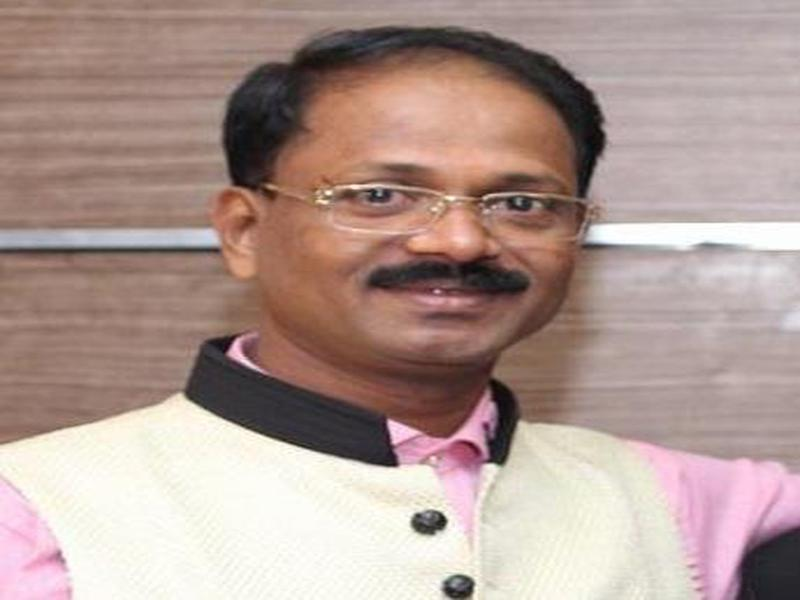without_mask: (258, 81, 576, 366)
